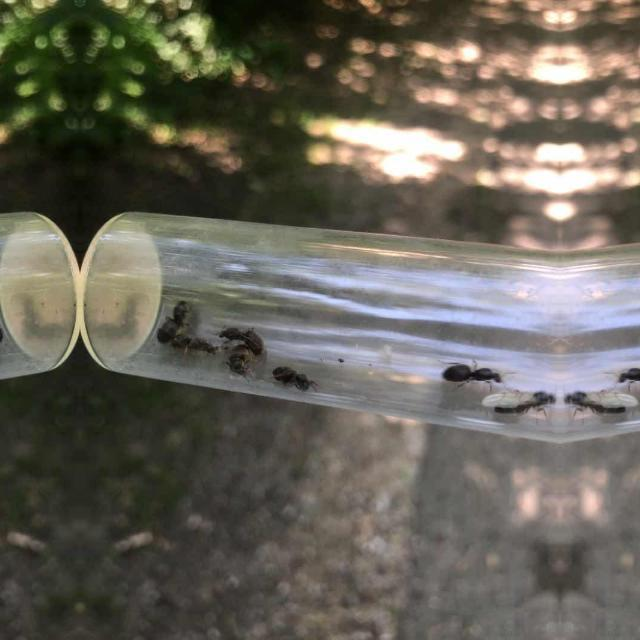Lasius: (479, 376, 558, 420), (560, 376, 638, 420), (151, 292, 193, 344), (273, 362, 327, 401), (438, 361, 509, 389), (217, 317, 265, 355), (168, 331, 220, 363), (222, 342, 254, 380), (608, 361, 640, 389)
